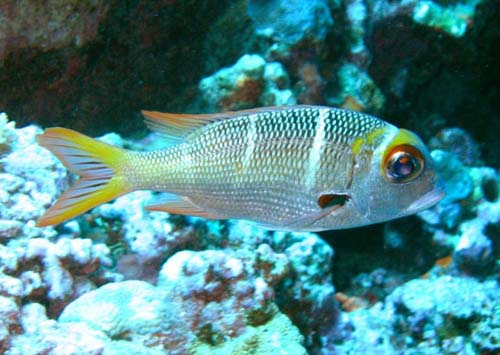fish: (35, 104, 446, 232)
